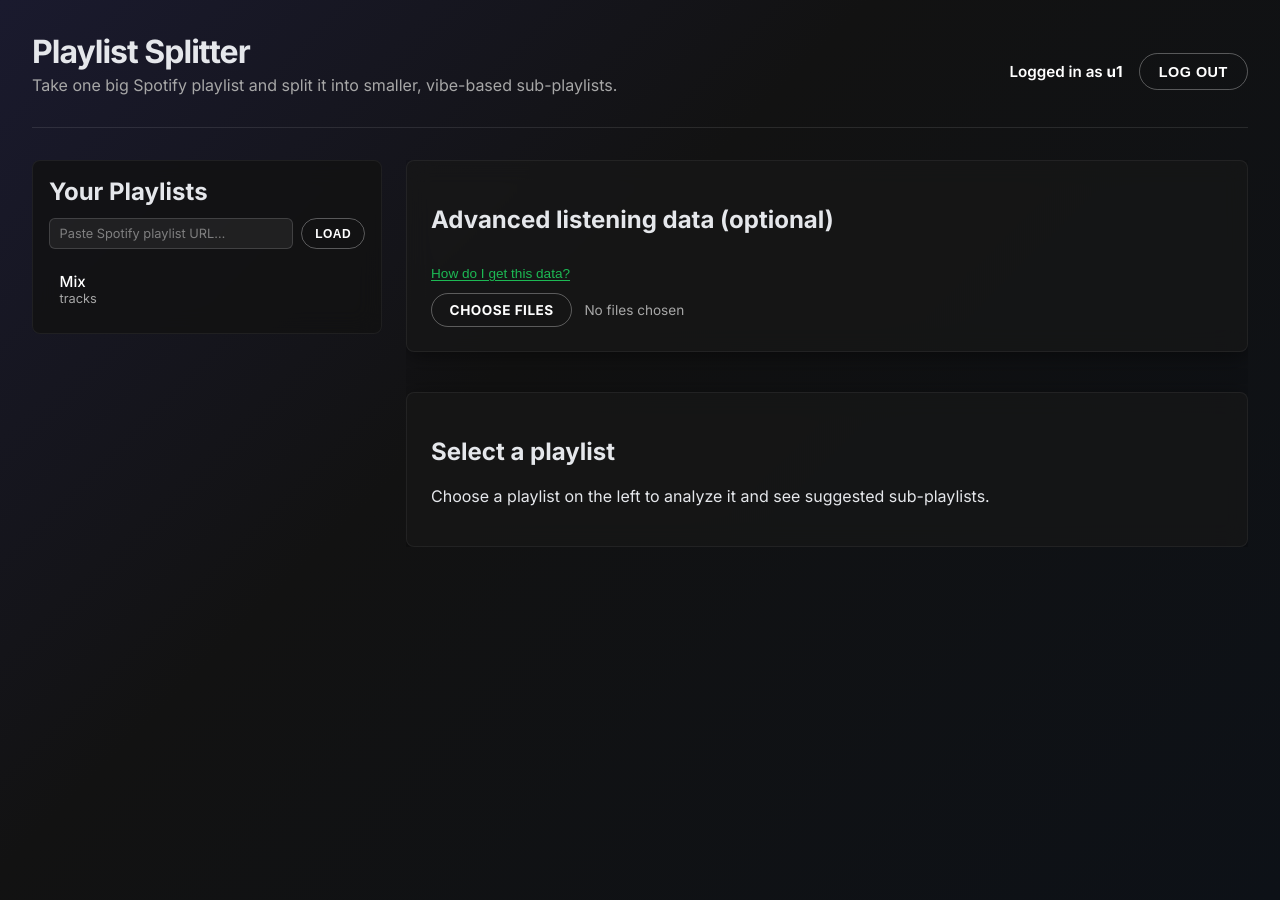
it: Quota UI › does not surface the pill when there's no quota info yet (still loading)
Click the text "Mix": click(73, 282) [60, 272, 86, 291]
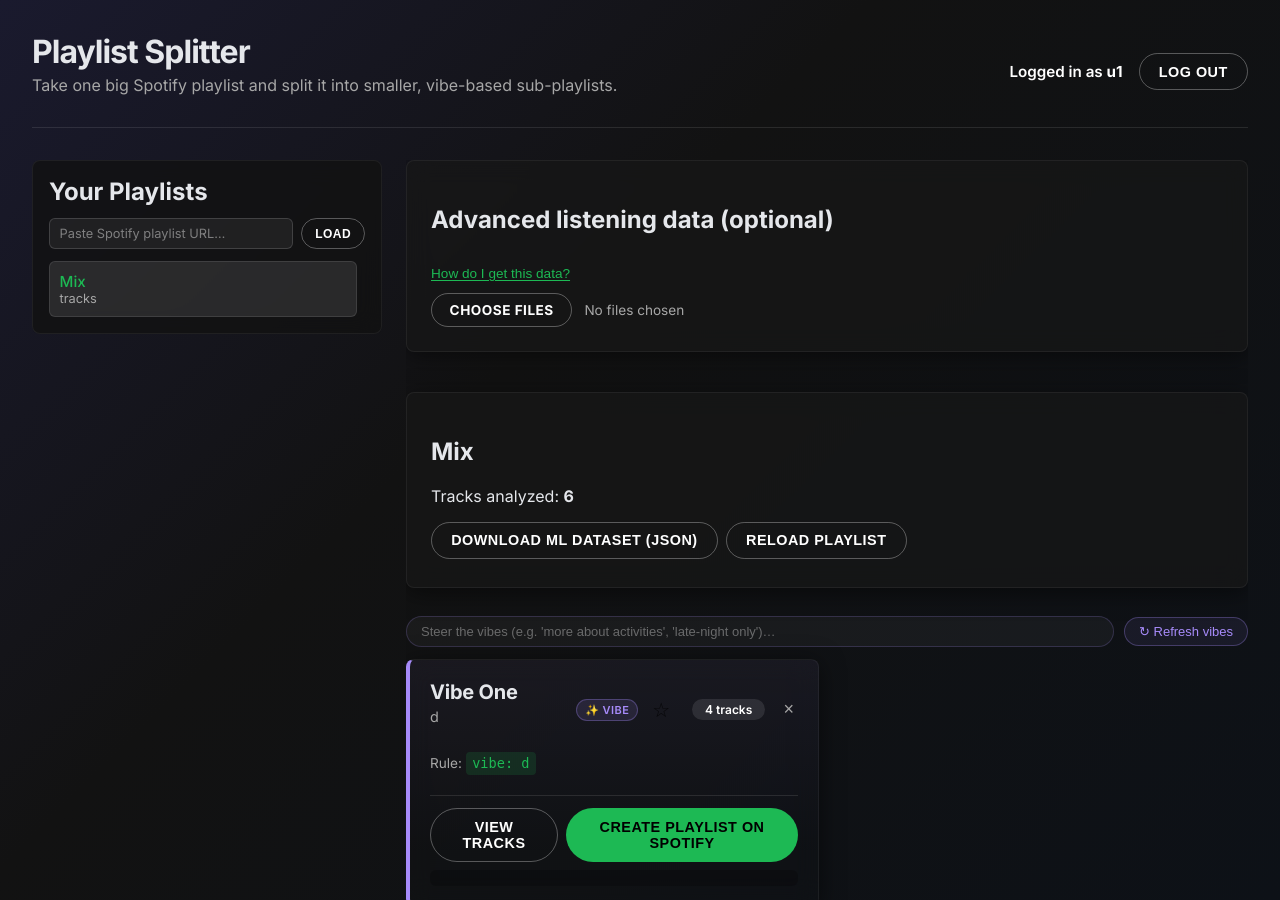
Check: the heading "Vibe One" is shown, box [430, 680, 518, 705]
